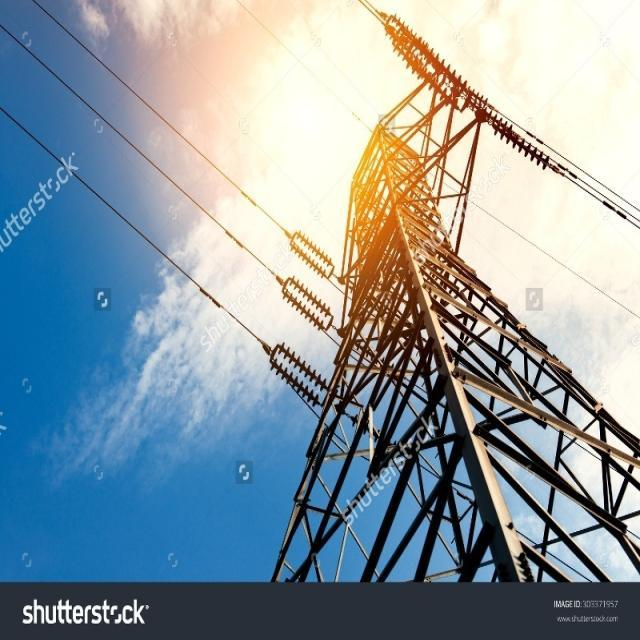non-critical vegetation: (300, 85, 638, 589)
